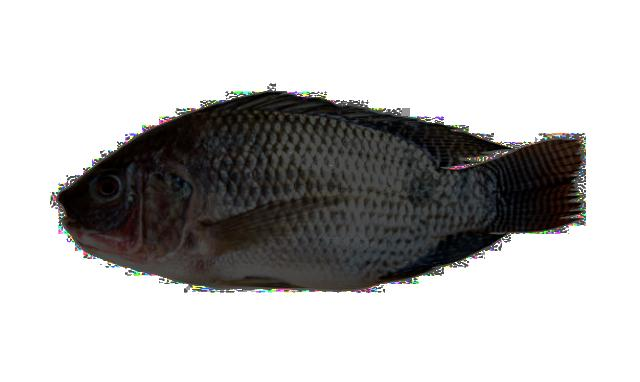Healthy Fish: (59, 92, 580, 289)
